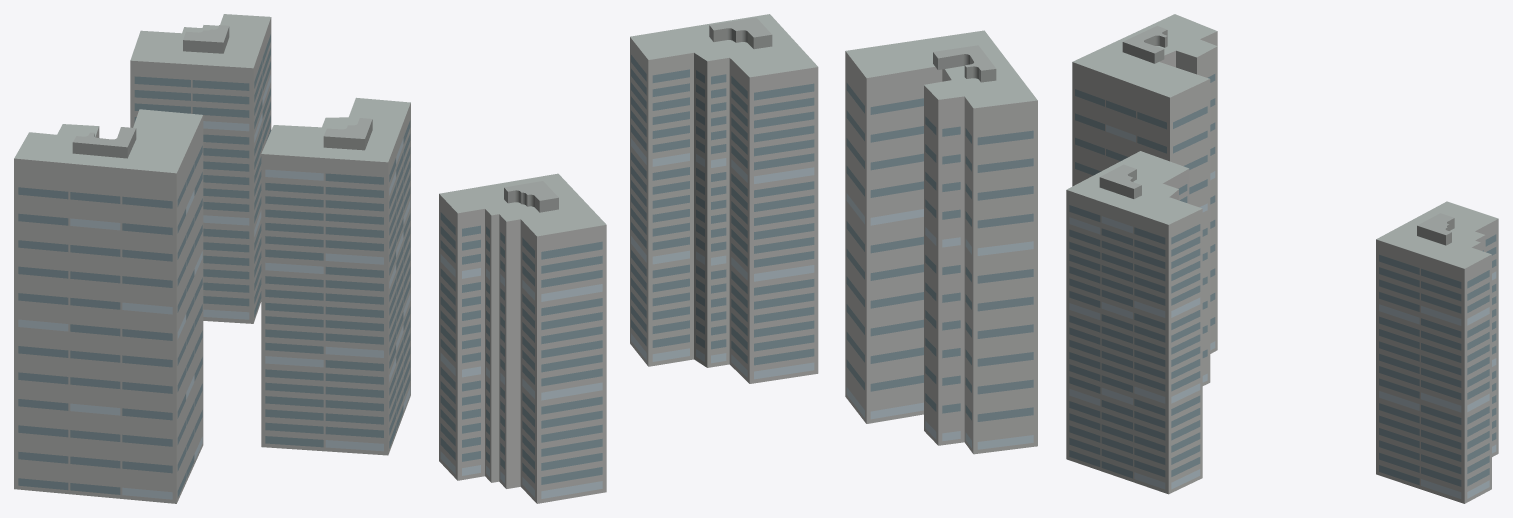
The model's file is apt-a10026403.glb.
3 views of the same model, side by side, from view 1: azimuth 30°, elevation 25°; view 2: azimuth 150°, elevation 25°; view 3: azimuth 270°, elevation 25° (orthographic). The views are drawn at different scales.
Parts seen in each view (by area): view 1: apt-a10026403; view 2: apt-a10026403; view 3: apt-a10026403.
Part boxes in pixels (x1,y1,x2,y2): apt-a10026403: (14, 14, 410, 503); apt-a10026403: (439, 14, 1037, 503); apt-a10026403: (1066, 14, 1498, 503).
Size of the model in its own units: 92.67 by 73 by 91.03.
